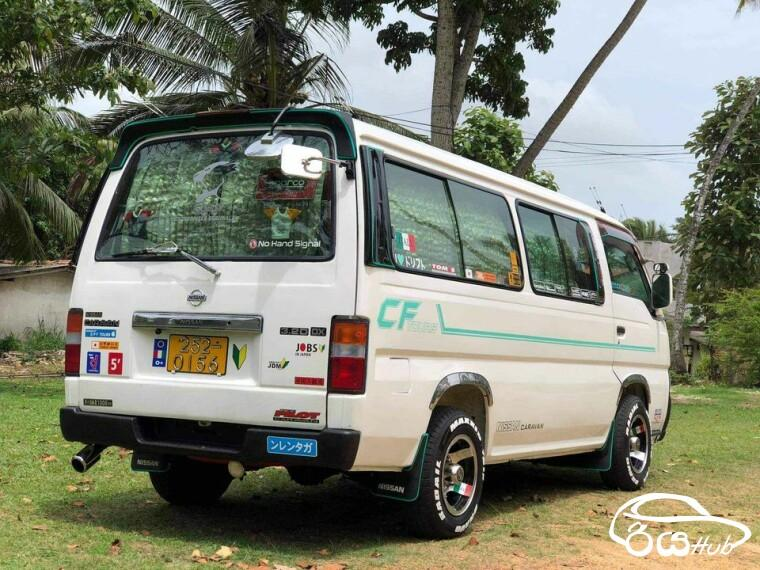van: (60, 107, 672, 535)
